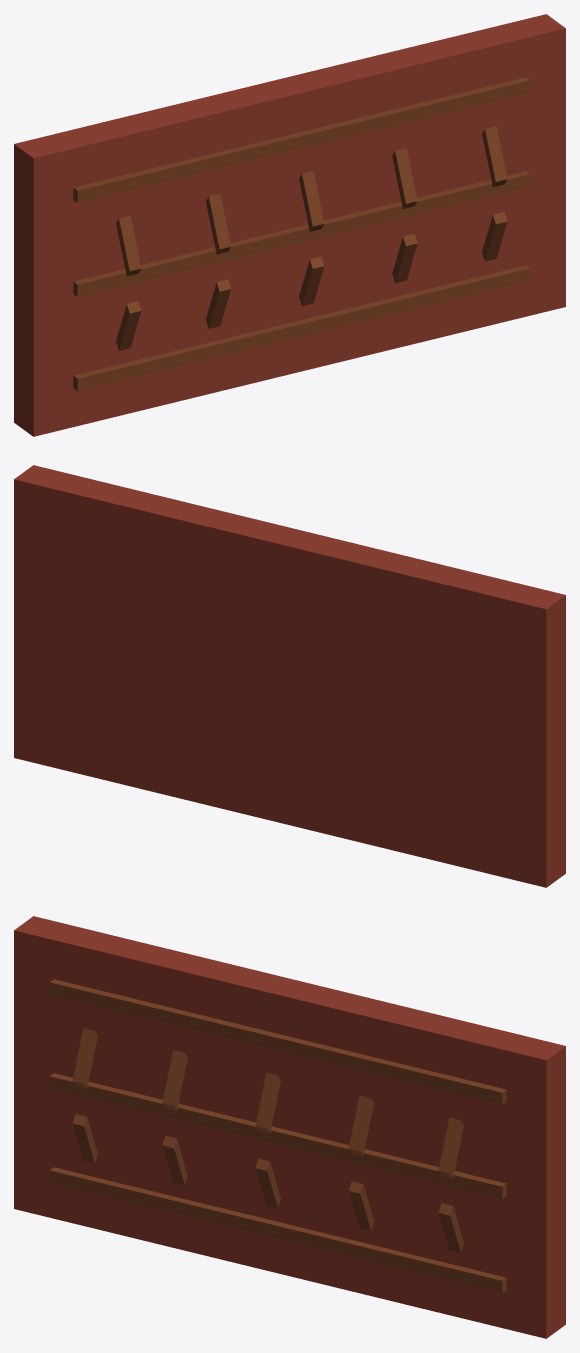
The model's file is FRM_020_C_LODs.fbx.
3 renders of one model, top to bottom at view 1: azimuth 30°, elevation 25°; view 2: azimuth 150°, elevation 25°; view 3: azimuth 330°, elevation 25°, orthographic.
Visible parts, largest first — view 1: FRM_020_C_LOD0; view 2: FRM_020_C_LOD0; view 3: FRM_020_C_LOD0.
Part boxes in pixels (box(x1,y1,x2,y2)): FRM_020_C_LOD0: box(14, 14, 565, 436); FRM_020_C_LOD0: box(14, 465, 565, 887); FRM_020_C_LOD0: box(14, 916, 565, 1338).
Size of what is drawn, in the model's own units: 1.6 by 0.8 by 0.2.
